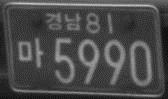0: (129, 39, 153, 87)
1: (103, 13, 117, 33)
5: (52, 37, 75, 84)
8: (85, 12, 101, 33)
9: (77, 38, 100, 84), (104, 38, 126, 84)
경남_O: (44, 12, 82, 31)
마: (18, 38, 44, 68)
